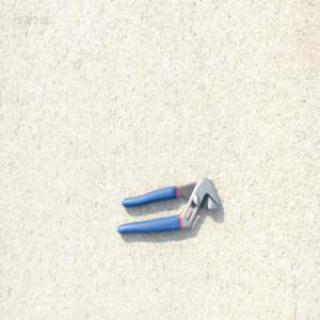Pliertrack_idkeyframe: (115, 174, 221, 233)
